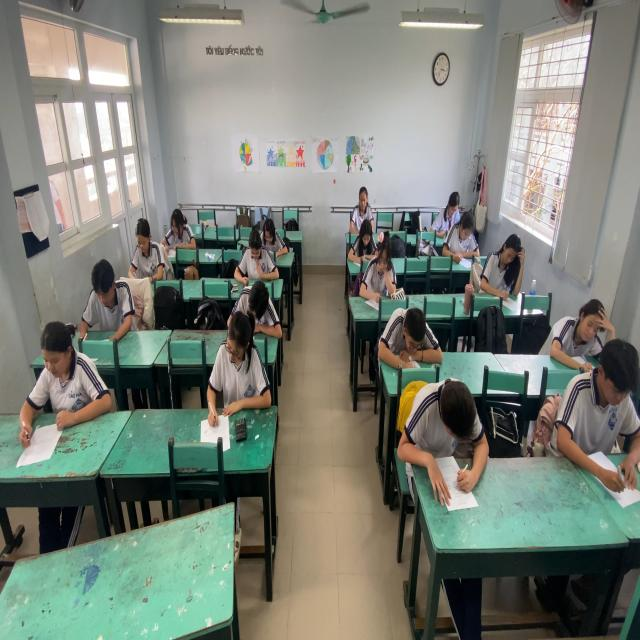not_cheating: (558, 341, 640, 482), (19, 319, 110, 427), (409, 376, 493, 464), (78, 254, 133, 340), (481, 226, 530, 312), (222, 312, 265, 409), (549, 292, 611, 358), (119, 217, 164, 286), (360, 233, 402, 306), (388, 305, 440, 358), (240, 229, 277, 291), (244, 277, 278, 337), (166, 201, 195, 257), (450, 205, 480, 257), (434, 178, 468, 222), (261, 216, 288, 264), (350, 185, 376, 222), (347, 216, 378, 247)
